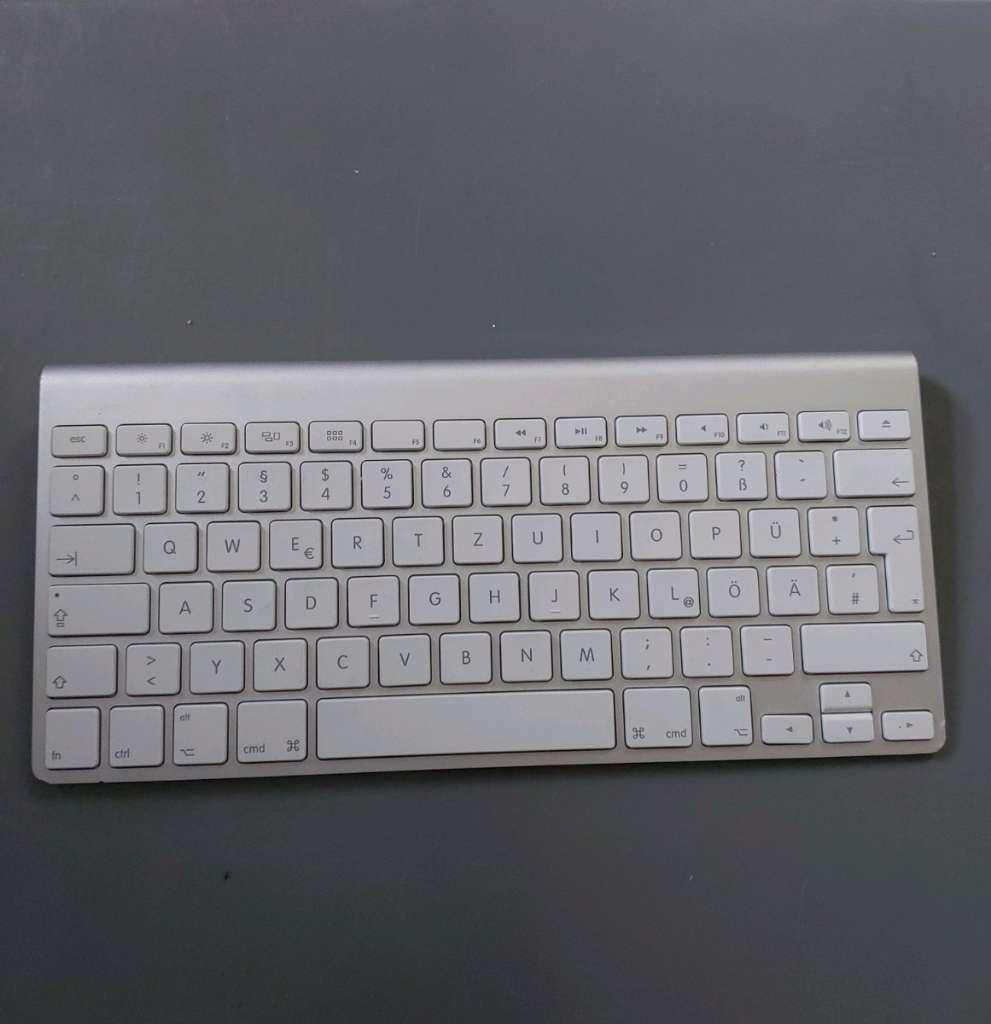0: (655, 450, 708, 501)
1: (111, 461, 167, 513)
2: (173, 460, 229, 512)
3: (235, 459, 291, 511)
4: (298, 458, 353, 509)
5: (359, 457, 413, 508)
6: (419, 456, 473, 506)
7: (479, 455, 531, 505)
8: (537, 453, 590, 503)
9: (595, 452, 650, 502)
a: (157, 578, 213, 633)
accent: (773, 448, 826, 498)
ae: (765, 563, 819, 615)
alt-left: (169, 700, 227, 765)
altgr-right: (697, 682, 754, 746)
b: (437, 629, 492, 683)
c: (313, 634, 370, 688)
caret: (47, 462, 105, 514)
comma: (617, 624, 673, 677)
d: (282, 575, 338, 629)
del: (832, 445, 915, 496)
e: (267, 516, 323, 569)
enter: (864, 499, 924, 610)
f: (345, 573, 399, 626)
g: (406, 571, 460, 624)
h: (466, 569, 520, 622)
hash: (824, 561, 878, 613)
i: (569, 508, 622, 560)
j: (526, 567, 579, 620)
k: (586, 566, 640, 619)
keyboard: (25, 346, 954, 791)
l: (645, 565, 700, 617)
less: (123, 640, 181, 694)
m: (557, 625, 613, 680)
minus: (737, 623, 794, 674)
n: (497, 627, 553, 681)
o: (627, 508, 681, 559)
oe: (705, 564, 760, 616)
p: (687, 506, 741, 557)
plus: (806, 503, 859, 555)
point: (678, 623, 733, 676)
q: (140, 519, 199, 573)
r: (329, 515, 384, 567)
s: (220, 577, 276, 631)
shift-left: (42, 641, 115, 696)
shift-lock: (45, 581, 149, 638)
shift-right: (798, 618, 926, 672)
space: (315, 687, 614, 756)
ss: (714, 449, 767, 499)
strg-left: (105, 701, 165, 767)
t: (391, 513, 443, 565)
tab: (46, 520, 134, 574)
u: (509, 510, 563, 563)
ue: (746, 505, 801, 556)
v: (375, 630, 432, 685)
w: (203, 517, 260, 571)
x: (251, 636, 308, 690)
y: (187, 638, 245, 693)
z: (450, 511, 503, 564)
